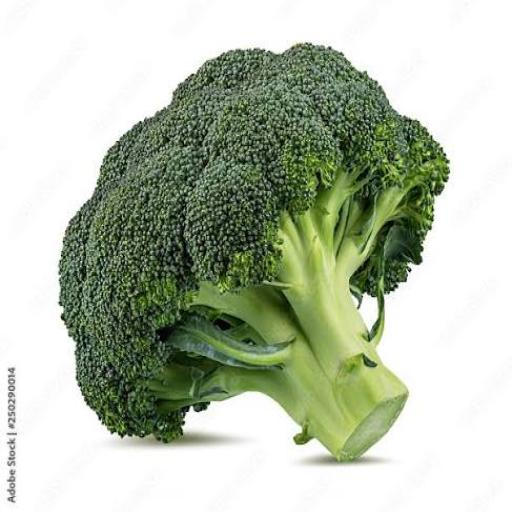broccoli: (46, 44, 454, 486), (59, 44, 448, 460)
